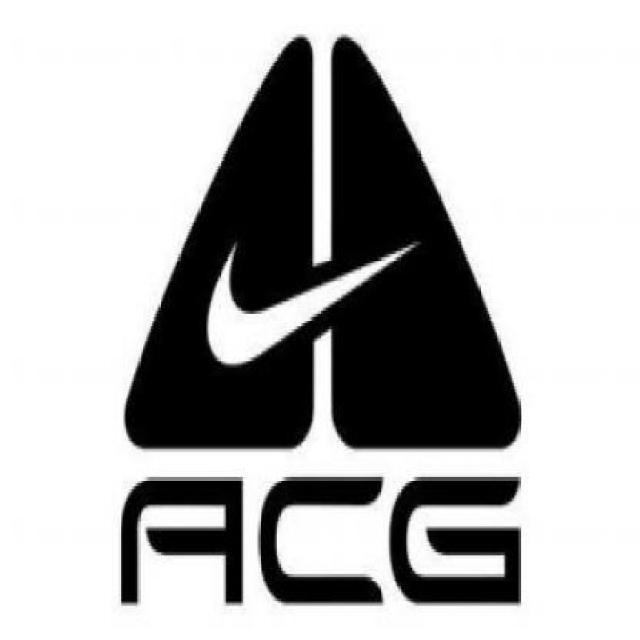Nike: (198, 225, 424, 364)
